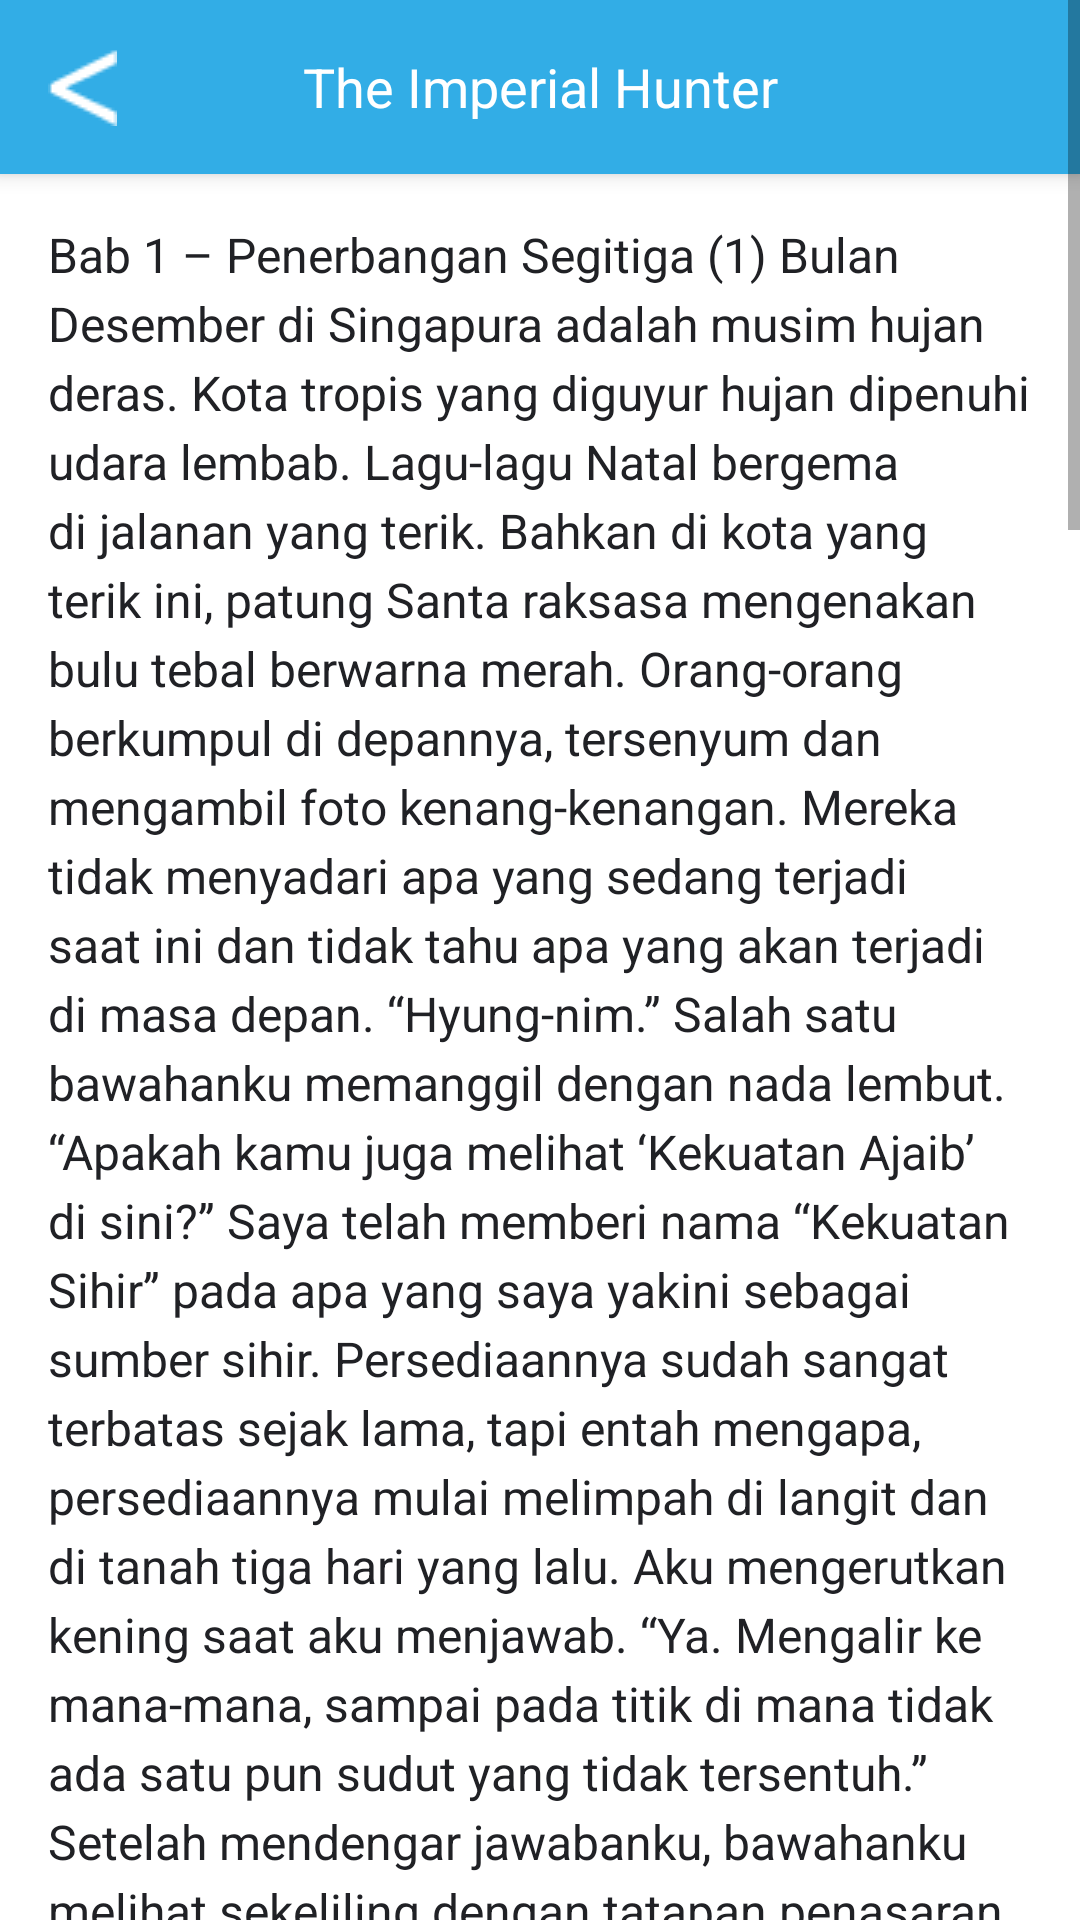

Screen size 1080x1920. Icon name, then its center in pixels as [x,y]:
back: [82,88]
